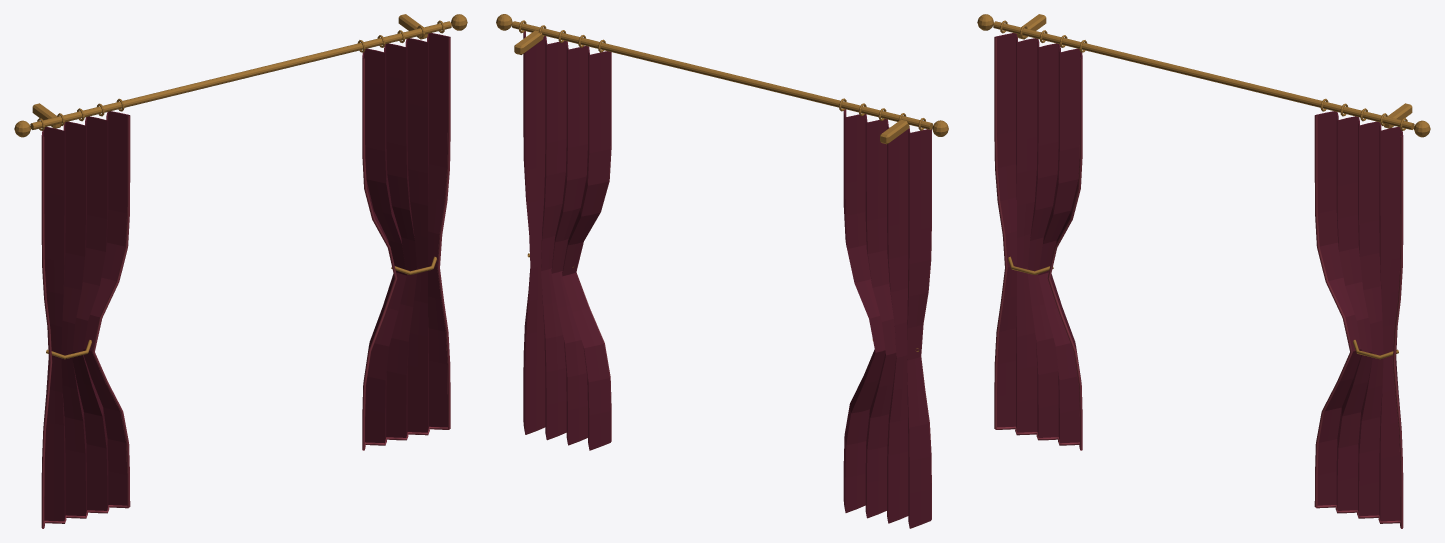
Rendered from BedroomCurtainPair.glb.
3 views of the same model, side by side, from view 1: azimuth 30°, elevation 25°; view 2: azimuth 150°, elevation 25°; view 3: azimuth 330°, elevation 25° (orthographic).
Visible parts, largest first — view 1: CurtainLeft, CurtainRight, CurtainRod, CurtainEdgeBinding, CurtainEdgeBinding.001, CurtainEdgeBinding.002, CurtainEdgeBinding.003; view 2: CurtainLeft, CurtainRight, CurtainRod; view 3: CurtainRight, CurtainLeft, CurtainRod, CurtainEdgeBinding.002, CurtainEdgeBinding.003, CurtainEdgeBinding.001, CurtainEdgeBinding.
Part boxes in pixels (box(x1,y1,x2,y2)): CurtainLeft: box(41, 111, 129, 521); CurtainRight: box(362, 33, 449, 443); CurtainRod: box(30, 21, 451, 129); CurtainEdgeBinding: box(41, 135, 52, 528); CurtainEdgeBinding.001: box(92, 115, 130, 507); CurtainEdgeBinding.002: box(362, 57, 397, 449); CurtainEdgeBinding.003: box(437, 37, 450, 429); CurtainLeft: box(843, 109, 931, 527); CurtainRight: box(523, 31, 610, 449); CurtainRod: box(512, 21, 932, 129); CurtainRight: box(1315, 111, 1403, 521); CurtainLeft: box(995, 33, 1082, 443); CurtainRod: box(993, 21, 1414, 129); CurtainEdgeBinding.002: box(1314, 115, 1352, 507); CurtainEdgeBinding.003: box(1392, 135, 1403, 528); CurtainEdgeBinding.001: box(1047, 57, 1082, 449); CurtainEdgeBinding: box(994, 37, 1007, 429).
Bounding box in the file's own units: 6.53 × 5.69 × 0.7618.
